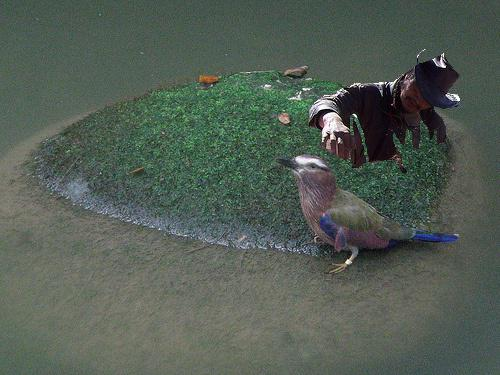tampered: (310, 50, 460, 173)
